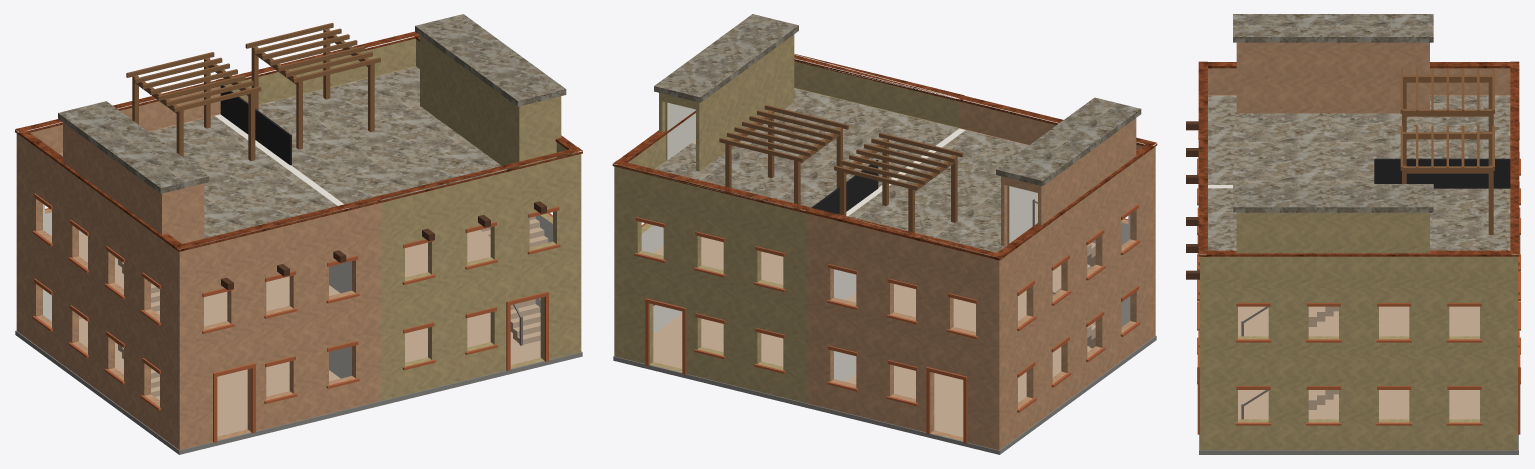
Rendered from cr-stucco-duplex.towns-v2.lod0.glb.
3 renders of one model, left to right at view 1: azimuth 30°, elevation 25°; view 2: azimuth 150°, elevation 25°; view 3: azimuth 270°, elevation 25°, orthographic. The views are drawn at different scales.
Visible parts, largest first — view 1: cr-stucco-duplex; view 2: cr-stucco-duplex; view 3: cr-stucco-duplex.
Part boxes in pixels (bbox=[...]): cr-stucco-duplex: bbox=[15, 14, 582, 454]; cr-stucco-duplex: bbox=[612, 14, 1157, 454]; cr-stucco-duplex: bbox=[1186, 14, 1520, 454].
Bounding box in the file's own units: 14.98 × 8.97 × 10.94.
5 materials, 2 textured.
